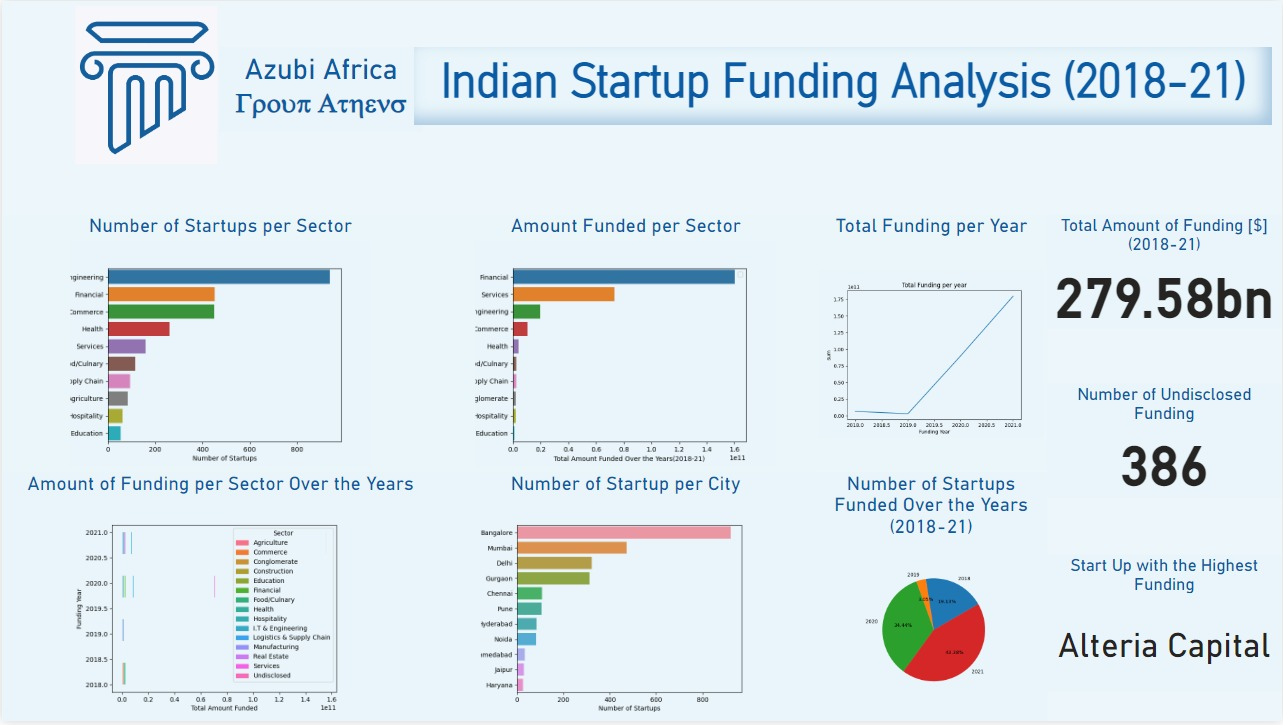

What the dashboard file says about the page in this screenshot:
{"tool":"powerbi","page":{"name":"Page 1","canvas":[1280,720],"ordinal":0},"visuals":[{"type":"pythonVisual","title":"Number of Startups per Sector","fields":{"Values":["data.Sector","data.HeadQuarter"]},"box":[0.9,213.5,434.4,257.3],"z":0},{"type":"pythonVisual","title":"Amount Funded per Sector","fields":{"Values":["data.Sector","data.Amount($)"]},"box":[435.4,213.5,377.6,257.3],"z":1000},{"type":"pythonVisual","title":"Amount of Funding per Sector Over the Years","fields":{"Values":["data.Sector","data.Amount($)","data.Funding Year"]},"box":[0.9,470.8,434.6,249.2],"z":2000},{"type":"pythonVisual","title":"Number of Startup per City","fields":{"Values":["data.HeadQuarter"]},"box":[435.4,470.8,377.6,248.9],"z":3000},{"type":"pythonVisual","title":"Number of Startups Funded Over the Years (2018-21)","fields":{"Values":["data.Funding Year","data.Company/Brand"]},"box":[812.9,471.7,233.1,248.9],"z":4000},{"type":"pythonVisual","title":"Total Funding per Year","fields":{"Values":["data.Funding Year","data.Amount($)"]},"box":[812.6,213.6,233.7,256.5],"z":5000},{"type":"card","title":"Total Amount of Funding [$] (2018-21)","fields":{"Values":["Sum(data.Amount($))"]},"box":[1045.6,213.7,234.4,114.1],"z":6000},{"type":"card","title":"Number of Undisclosed Funding","fields":{"Values":["CountNonNull(data.Amount($))"]},"box":[1045.6,382.8,234.4,114.1],"z":7000},{"type":"card","title":"Start Up with the Highest Funding","fields":{"Values":["Min(data.Company/Brand)"]},"box":[1045.6,553.9,234.4,135.9],"z":8000},{"type":"image","box":[0.9,0,285.8,168],"z":9000},{"type":"textbox","box":[218,46,203.1,84.4],"z":10000},{"type":"textbox","box":[412.8,46.4,858,77.9],"z":11000}]}

Visuals, with their boxes in screenshot pixels (x1, y1, x2, y2), scaled from the page's 1280x720 canvas onto the 1283x725 screenshot:
"Number of Startups per Sector" pythonVisual: <region>1, 215, 436, 474</region>
"Amount Funded per Sector" pythonVisual: <region>436, 215, 815, 474</region>
"Amount of Funding per Sector Over the Years" pythonVisual: <region>1, 474, 437, 724</region>
"Number of Startup per City" pythonVisual: <region>436, 474, 815, 724</region>
"Number of Startups Funded Over the Years (2018-21)" pythonVisual: <region>815, 475, 1048, 724</region>
"Total Funding per Year" pythonVisual: <region>815, 215, 1049, 473</region>
"Total Amount of Funding [$] (2018-21)" card: <region>1048, 215, 1282, 330</region>
"Number of Undisclosed Funding" card: <region>1048, 385, 1282, 500</region>
"Start Up with the Highest Funding" card: <region>1048, 558, 1282, 695</region>
image: <region>1, 0, 287, 169</region>
textbox: <region>219, 46, 422, 131</region>
textbox: <region>414, 47, 1274, 125</region>
